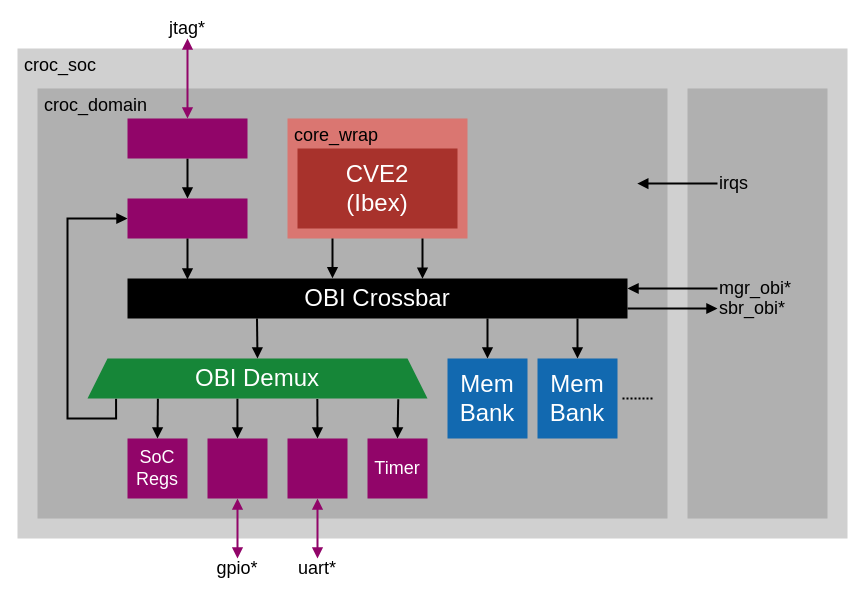
This 864x596 diagram has some shape labels left out. Here are the shapes that lost their labels. From the top down, the box of each, then its label:
(127, 118, 247, 158): JTAG
(127, 198, 247, 238): Debug
(687, 88, 827, 518): user _domain
(207, 438, 267, 498): GPIO
(287, 438, 347, 498): UART
